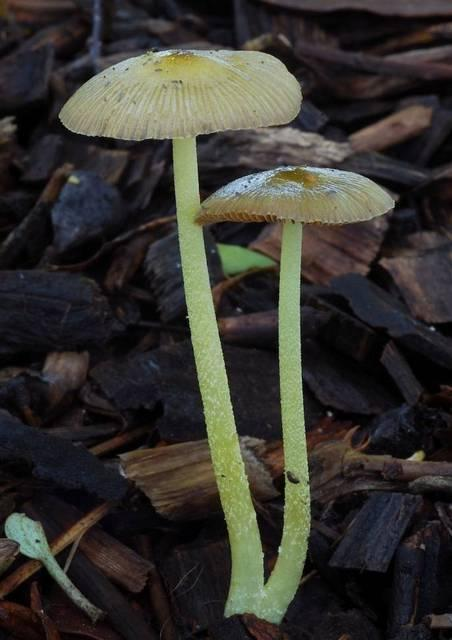Edible Mushroom: (56, 46, 308, 623), (192, 163, 395, 624)
